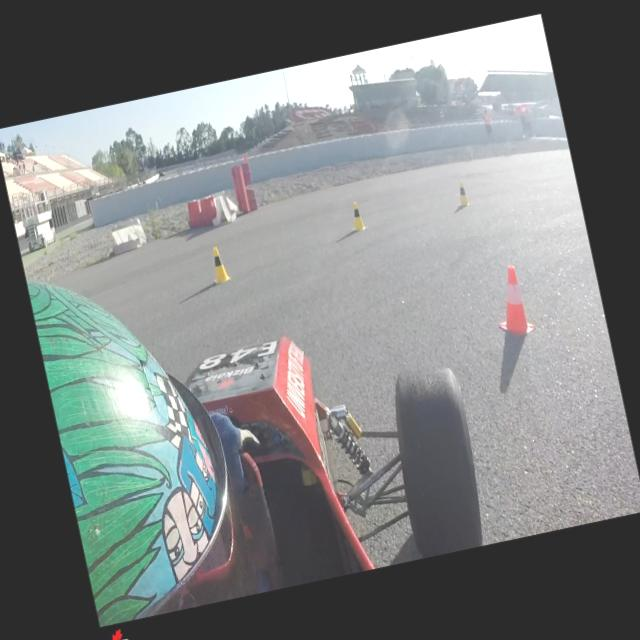orange_cone: (487, 262, 535, 341)
yellow_cone: (207, 246, 231, 284), (347, 200, 368, 233), (454, 180, 469, 208)
